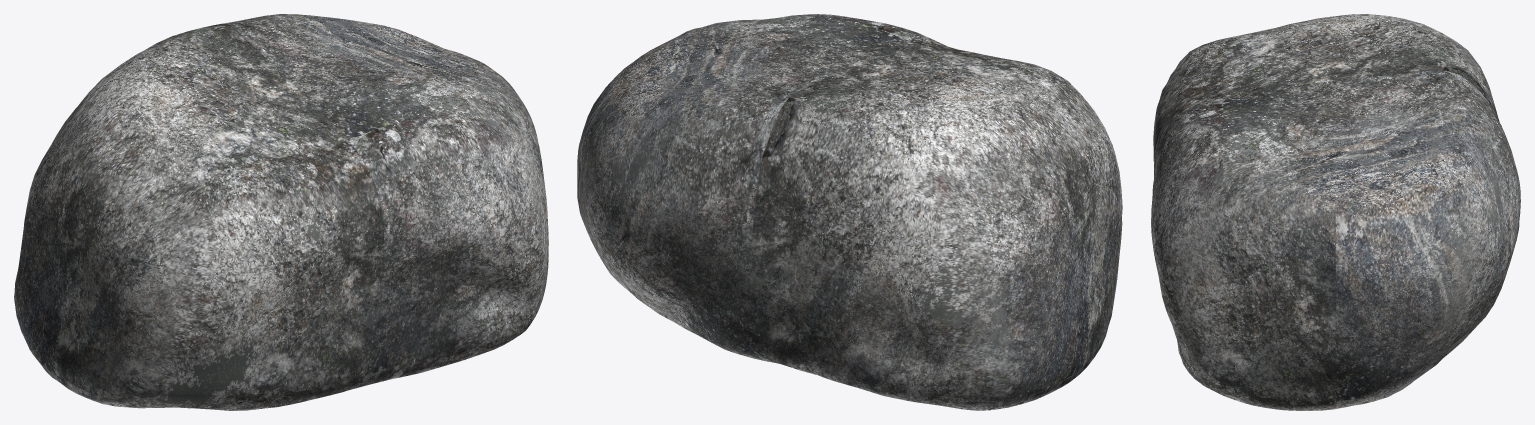
Rendered from rock.fbx.
3 views of the same model, side by side, from view 1: azimuth 30°, elevation 25°; view 2: azimuth 150°, elevation 25°; view 3: azimuth 270°, elevation 25° (orthographic). The views are drawn at different scales.
Visible parts, largest first — view 1: PolySphere; view 2: PolySphere; view 3: PolySphere.
Part boxes in pixels (x1,y1,x2,y2): PolySphere: (14,14,548,410); PolySphere: (577,14,1122,410); PolySphere: (1151,14,1520,410).
Bounding box in the file's own units: 1.45 × 0.8632 × 1.05.
